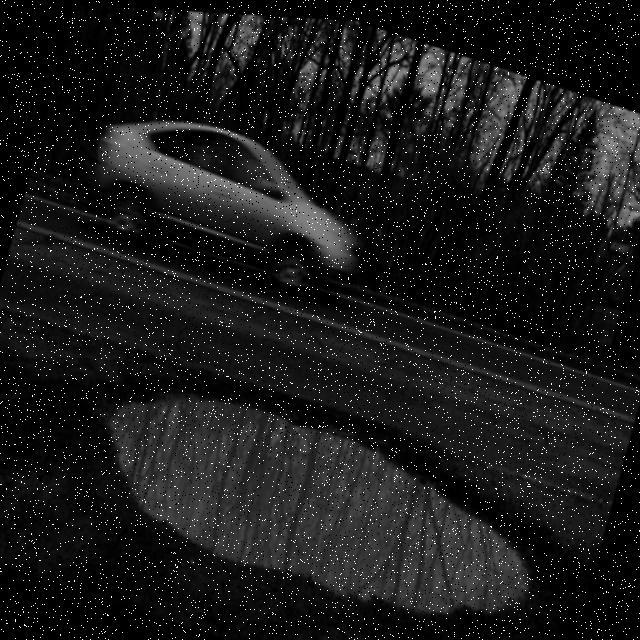pothole: (52, 328, 566, 640)
